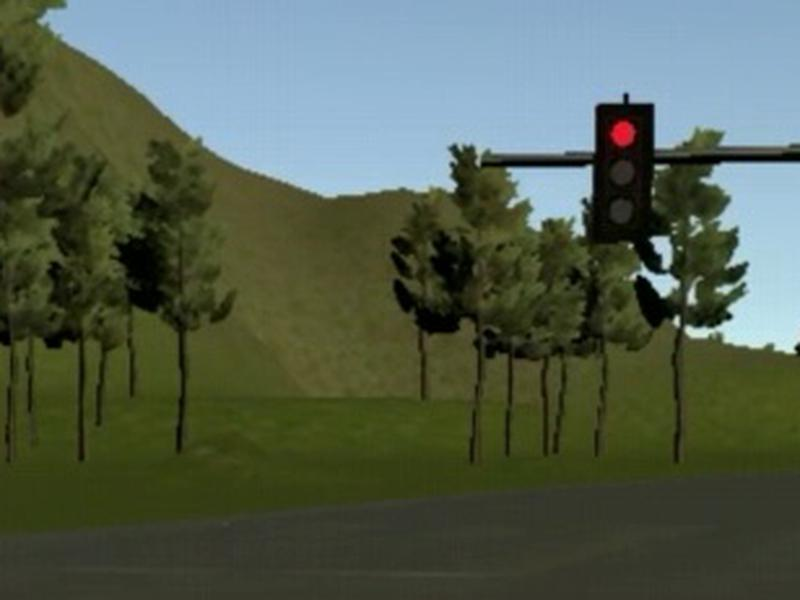Red: (596, 103, 649, 241)
